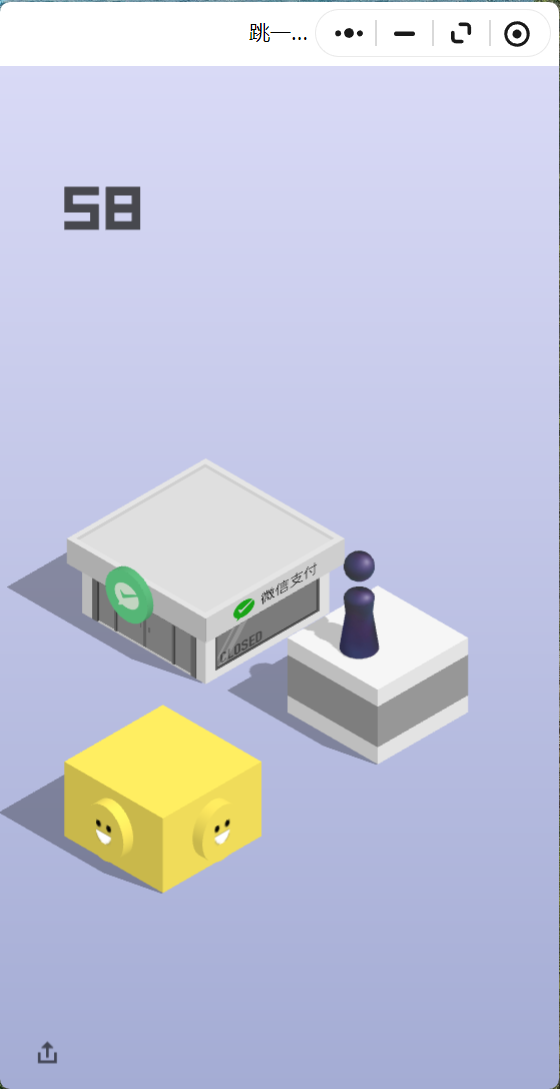piece: (344, 551, 374, 655)
target: (68, 458, 344, 620)
